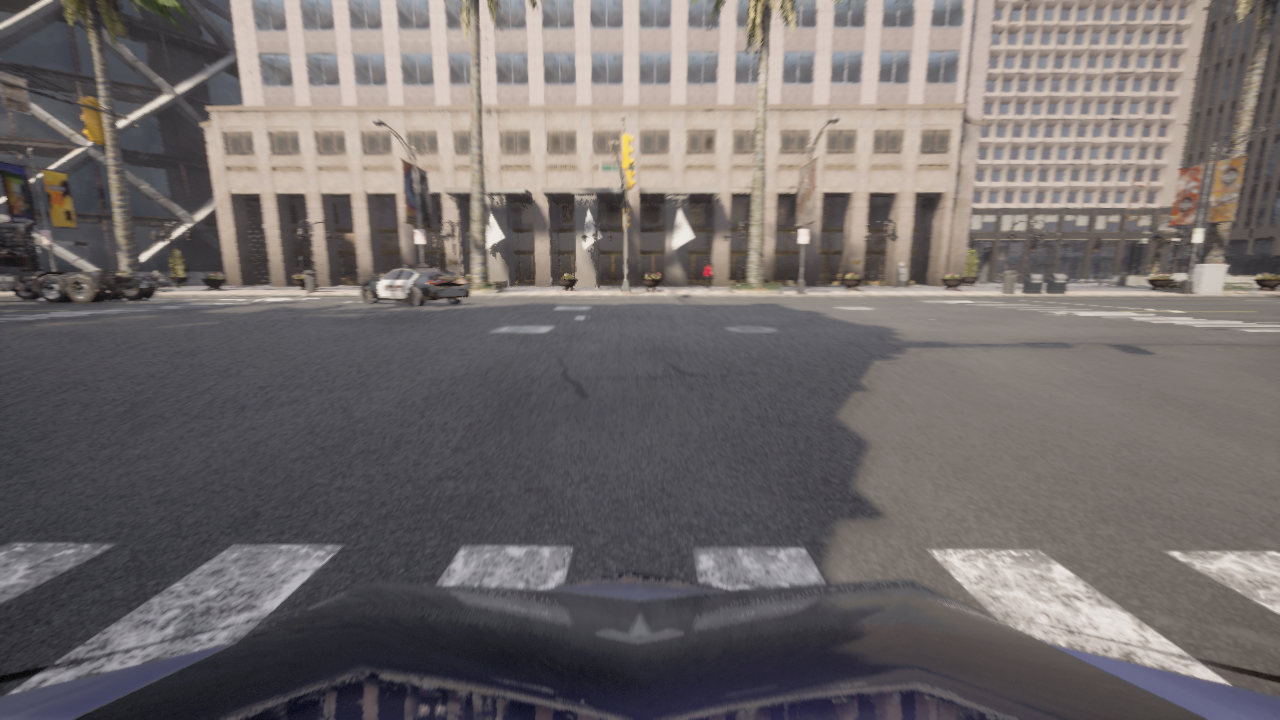cyclist: (0, 569, 1279, 719), (360, 265, 471, 306)
pedestrian: (703, 262, 712, 291)
